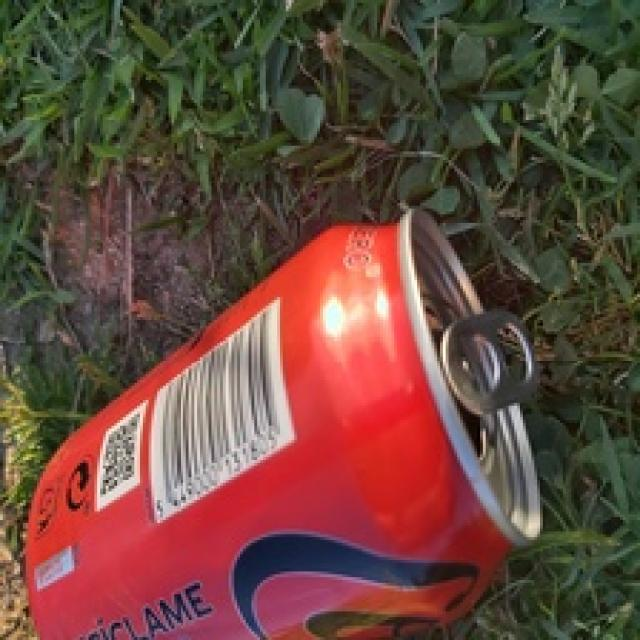recyclable: (24, 206, 552, 640)
